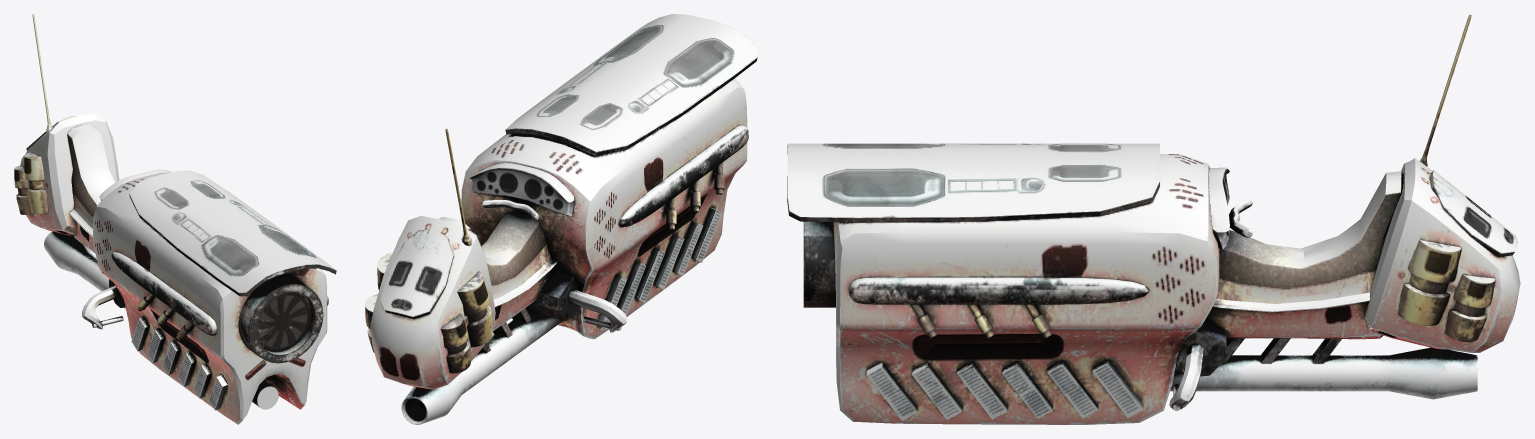
File: scout.glb
The picture shows the model from 3 angles, left to right: view 1: azimuth 30°, elevation 25°; view 2: azimuth 150°, elevation 25°; view 3: azimuth 270°, elevation 25°; orthographic projection. The views are drawn at different scales.
Visible parts, largest first — view 1: Object_9; view 2: Object_9; view 3: Object_9.
Boxes of the visible parts, <box> form: Object_9: <box>14,14,336,424</box>; Object_9: <box>365,14,758,424</box>; Object_9: <box>787,14,1520,424</box>.
Bounding box in the file's own units: 0.3346 × 0.5744 × 1.
1 material, 1 textured.
